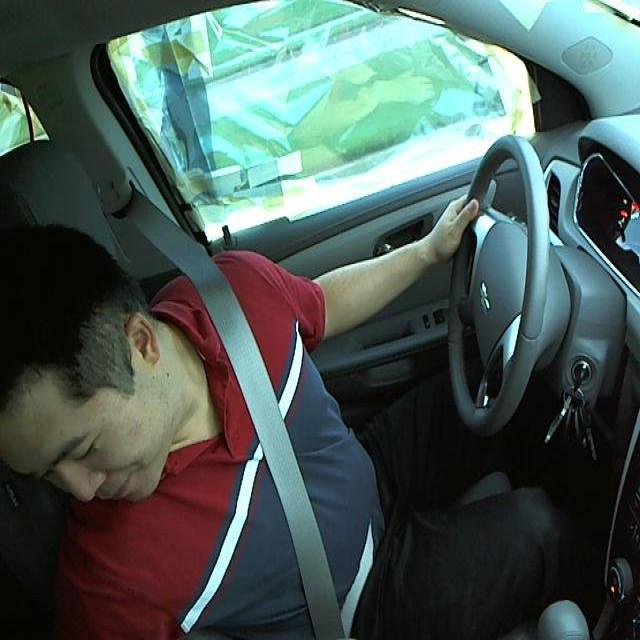seatbelt: (195, 272, 364, 639)
